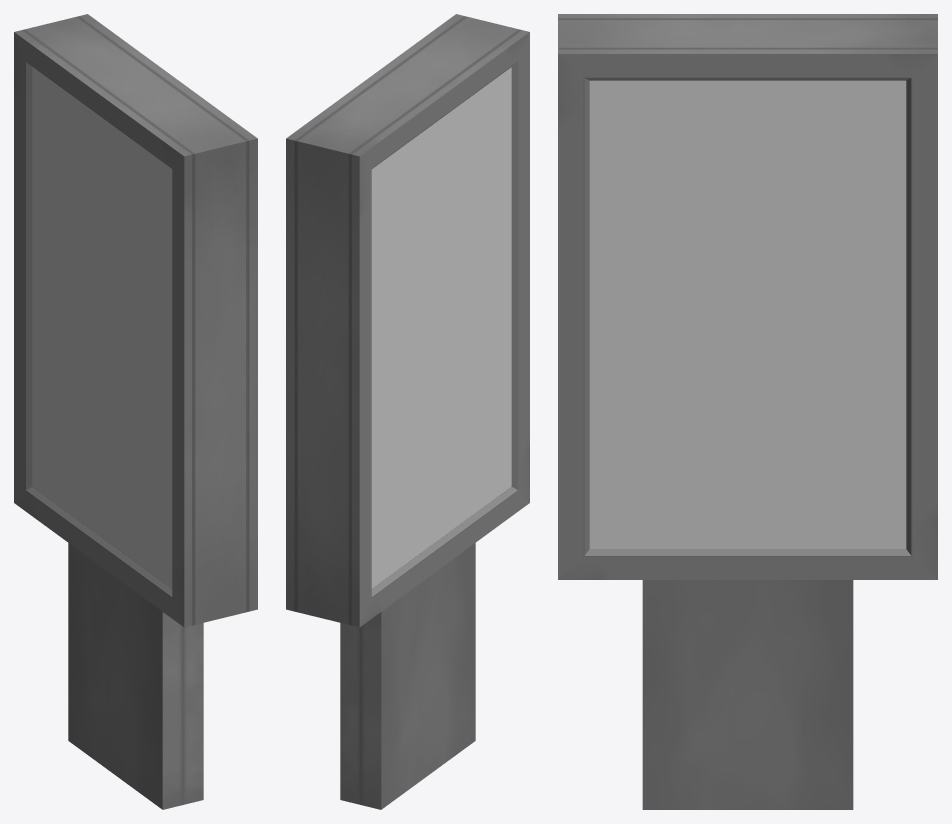
Rendered from ad_banner.fbx.
The picture shows the model from 3 angles, left to right: view 1: azimuth 30°, elevation 25°; view 2: azimuth 150°, elevation 25°; view 3: azimuth 270°, elevation 25°; orthographic projection. The views are drawn at different scales.
Parts seen in each view (by area): view 1: Ad_Banner; view 2: Ad_Banner; view 3: Ad_Banner.
Boxes of the visible parts, left/top/right/bottom form: Ad_Banner: left=14, top=14, right=257, bottom=809; Ad_Banner: left=286, top=14, right=529, bottom=809; Ad_Banner: left=558, top=14, right=937, bottom=809.
Bounding box in the file's own units: 90 × 800 × 360.
